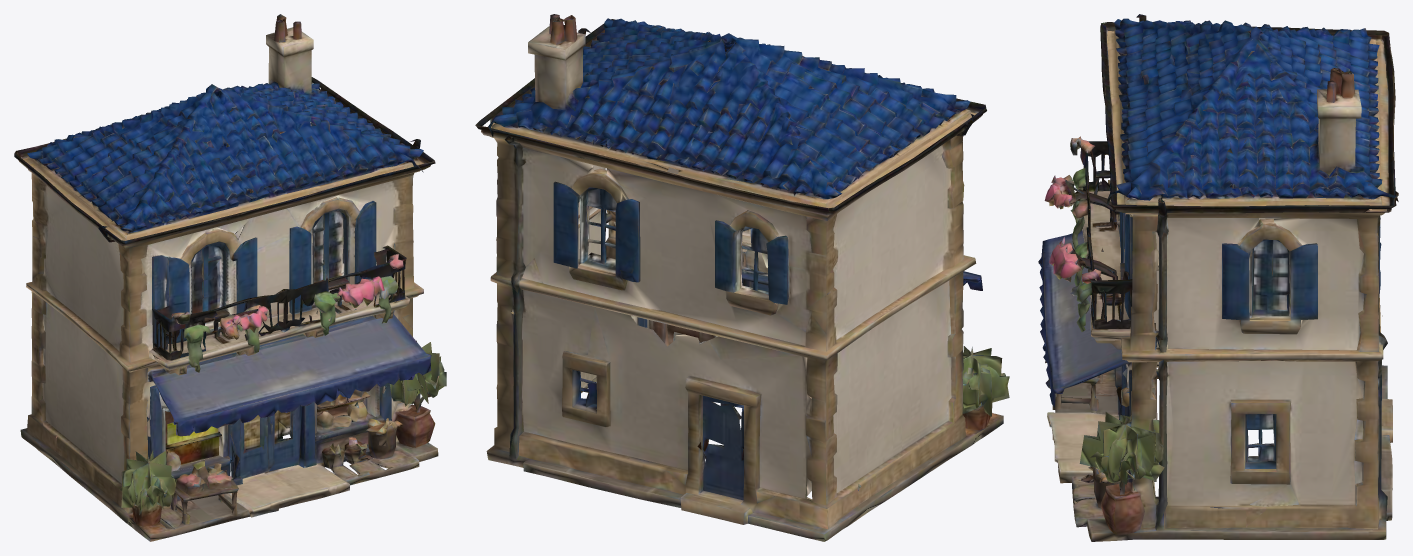
File: candidate.glb
3 views of the same model, side by side, from view 1: azimuth 30°, elevation 25°; view 2: azimuth 150°, elevation 25°; view 3: azimuth 270°, elevation 25° (orthographic). The views are drawn at different scales.
Visible parts, largest first — view 1: harbor__shop_2__native_mobile; view 2: harbor__shop_2__native_mobile; view 3: harbor__shop_2__native_mobile.
Boxes of the visible parts, x1,y1,x2,y2 form: harbor__shop_2__native_mobile: [14, 14, 446, 541]; harbor__shop_2__native_mobile: [475, 14, 1009, 541]; harbor__shop_2__native_mobile: [1038, 14, 1398, 541].
Size of the model in its own units: 0.9361 by 1 by 0.7389.
1 material, 1 textured.
